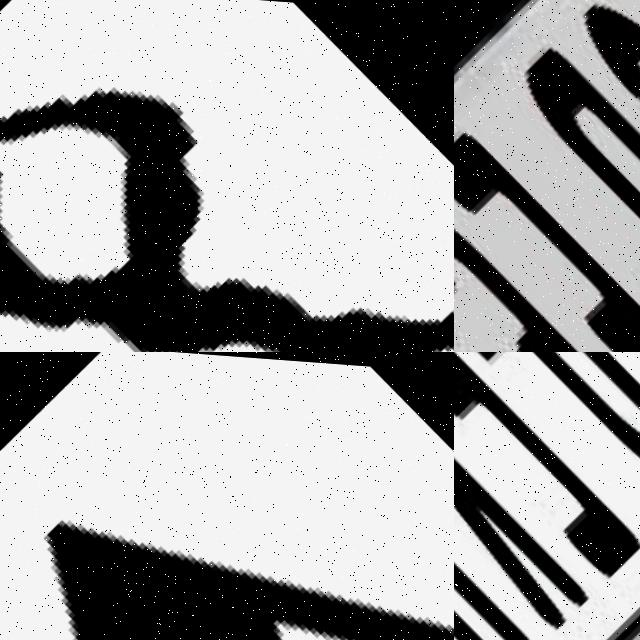2: (454, 220, 640, 352)
6: (526, 0, 640, 352), (454, 180, 640, 352)
8: (454, 352, 508, 640)
9: (0, 0, 454, 352)
A: (0, 352, 454, 640)
D: (454, 352, 640, 514)
E: (454, 125, 640, 352), (454, 352, 640, 569), (454, 352, 640, 420)
K: (454, 352, 628, 639)
M: (454, 352, 577, 640)
N: (585, 0, 640, 322)
P: (483, 38, 640, 352)
X: (454, 352, 640, 451)
